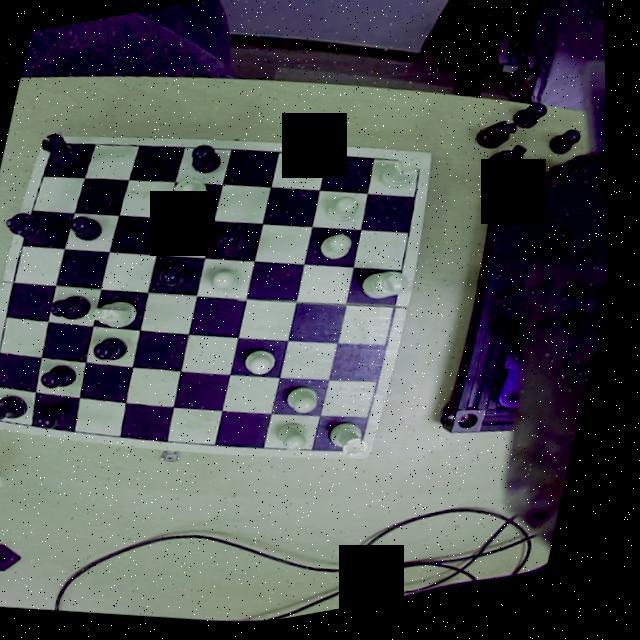chess-table-corners: (348, 437, 382, 467), (407, 156, 438, 186), (41, 132, 76, 158), (0, 402, 13, 428)
